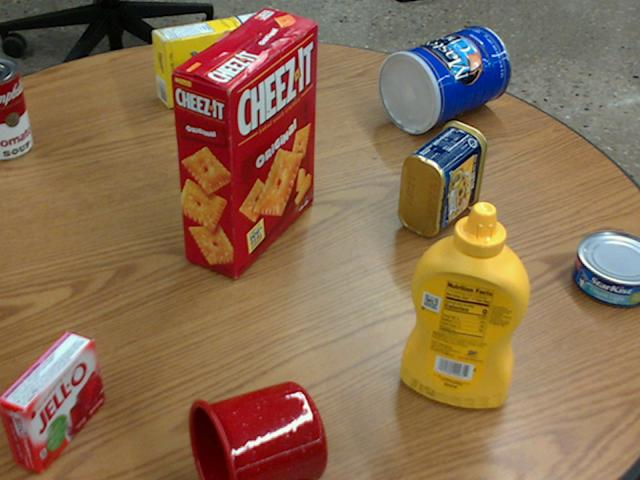cracker_box: (170, 8, 318, 277)
gelatin_box: (0, 330, 100, 472)
master_chef_can: (377, 25, 509, 132)
mug: (184, 382, 325, 479)
mustard_bottle: (399, 201, 528, 407)
potted_meat_can: (398, 120, 486, 235)
sugar_box: (152, 7, 290, 106)
tomato_soup_can: (0, 54, 31, 159)
tuna_fish_can: (570, 229, 639, 306)
